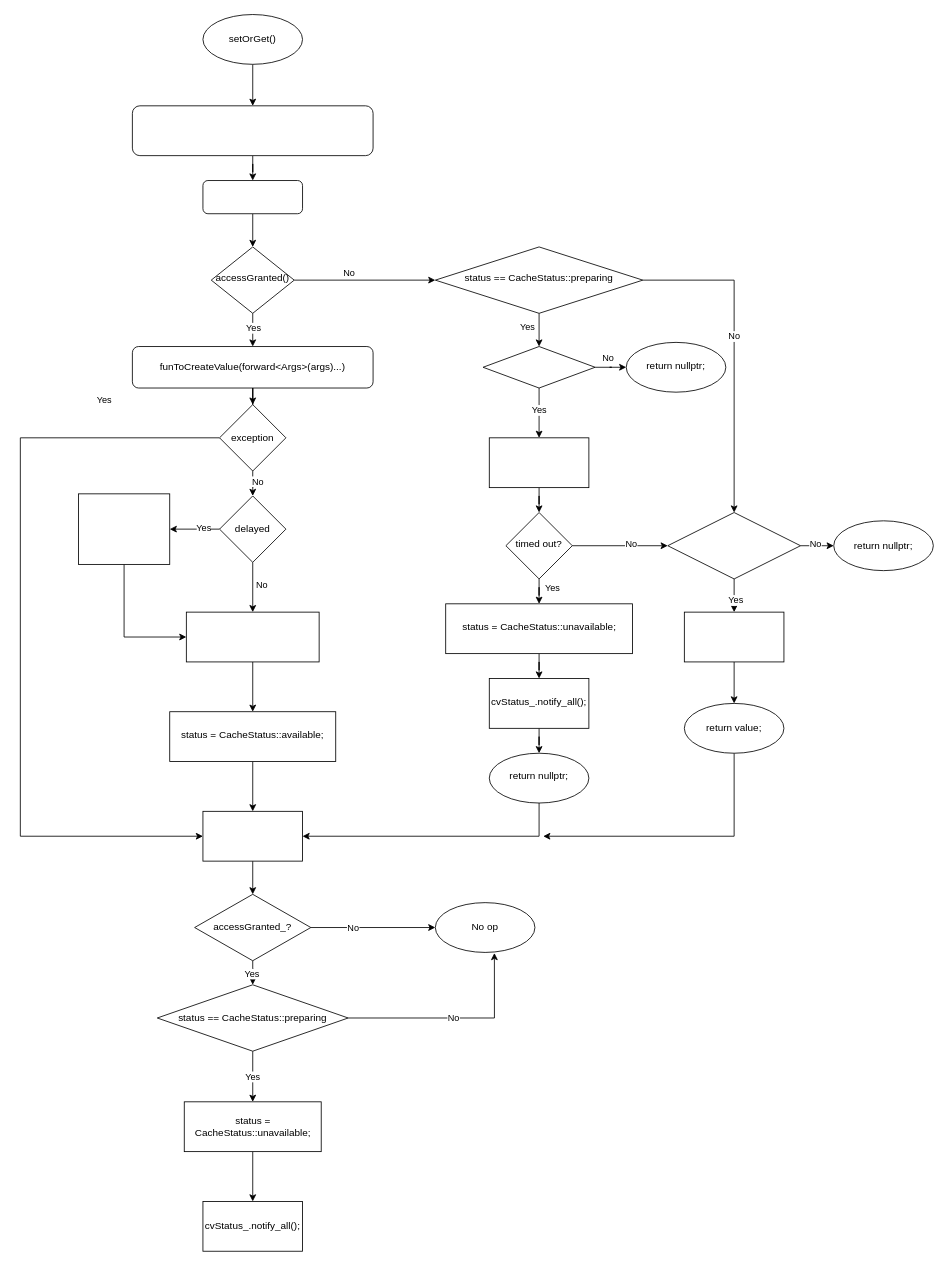
This 948x1266 diagram has some shape labels left out. The box of each missing label's shape, as (x1, y1, x2, y2) in pixels:
cache_.get(key);: (684, 611, 784, 662)
cache_.set(key, value);: (186, 611, 319, 662)
for (int tries = 0; !value && tries < numRetries; ++tries): (132, 105, 373, 156)
getWriteAccess(): (202, 180, 303, 214)
status == CacheStatus::available: (667, 512, 801, 579)
This might cause other threads time out: (78, 493, 170, 564)
wait: (488, 437, 589, 488)
wait?: (482, 346, 595, 388)
~WriteAccess(): (202, 810, 303, 861)
